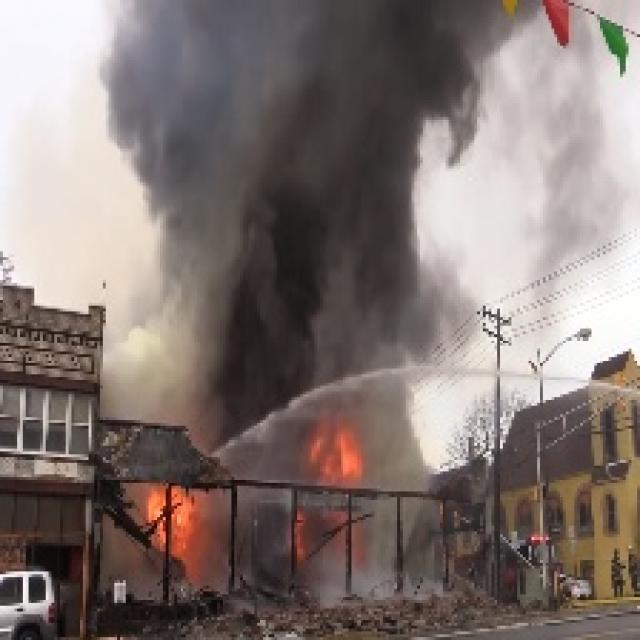Fire: (284, 416, 369, 563), (138, 476, 204, 564)
Smoke: (100, 0, 640, 407)
